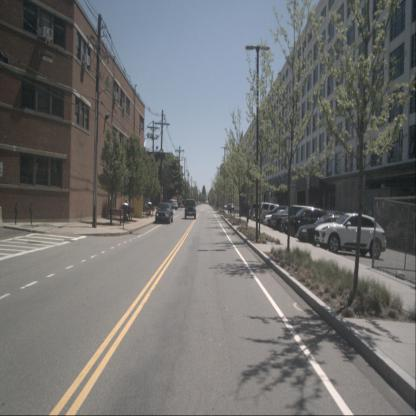human-pedestrian-adult: (143, 201, 147, 217)
vehicle-car: (314, 212, 387, 258), (297, 211, 361, 252), (281, 207, 329, 238), (271, 205, 313, 233), (384, 217, 416, 248), (264, 209, 300, 228), (258, 202, 284, 224), (155, 202, 173, 224), (184, 198, 196, 219), (165, 199, 178, 211), (224, 203, 235, 211)
